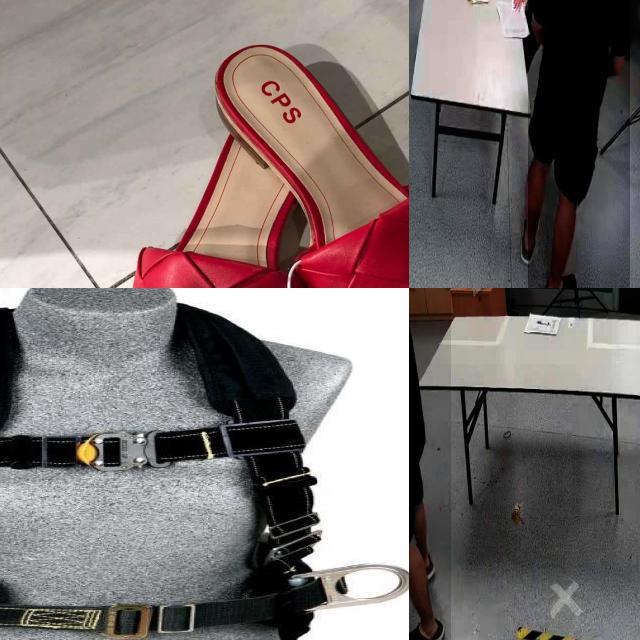Harness: (0, 304, 317, 640)
Sandals: (102, 0, 409, 288)
hand_noglove: (512, 0, 530, 11)
person: (527, 0, 630, 288), (409, 288, 451, 640)
shoes: (520, 204, 541, 266), (409, 613, 445, 640), (536, 267, 581, 288)
